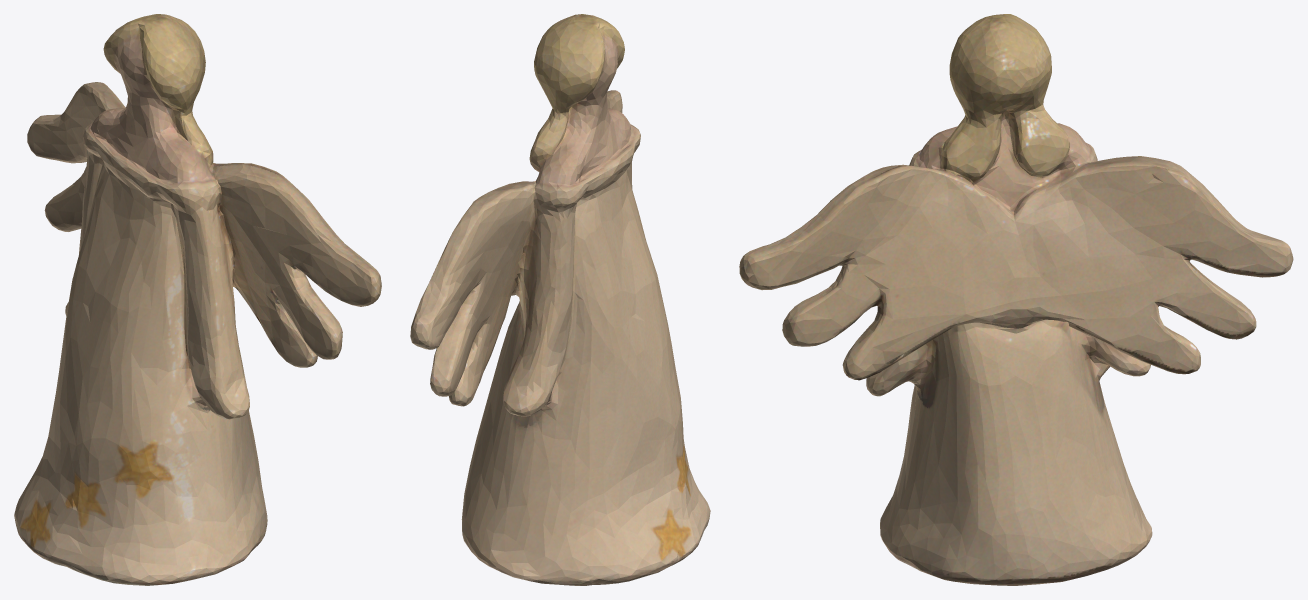
The model's file is A4590F64-2069-A649-B305-ECC4D433FB87_2k.glb.
The picture shows the model from 3 angles, left to right: view 1: azimuth 30°, elevation 25°; view 2: azimuth 150°, elevation 25°; view 3: azimuth 270°, elevation 25°; orthographic projection. The views are drawn at different scales.
Visible parts, largest first — view 1: Engel_8k_2k; view 2: Engel_8k_2k; view 3: Engel_8k_2k.
Part boxes in pixels (left/top/right/bottom): Engel_8k_2k: left=14, top=14, right=381, bottom=585; Engel_8k_2k: left=410, top=14, right=710, bottom=585; Engel_8k_2k: left=739, top=14, right=1293, bottom=585.
Size of the model in its own units: 0.0828 by 0.1908 by 0.1824.
1 material, 1 textured.
